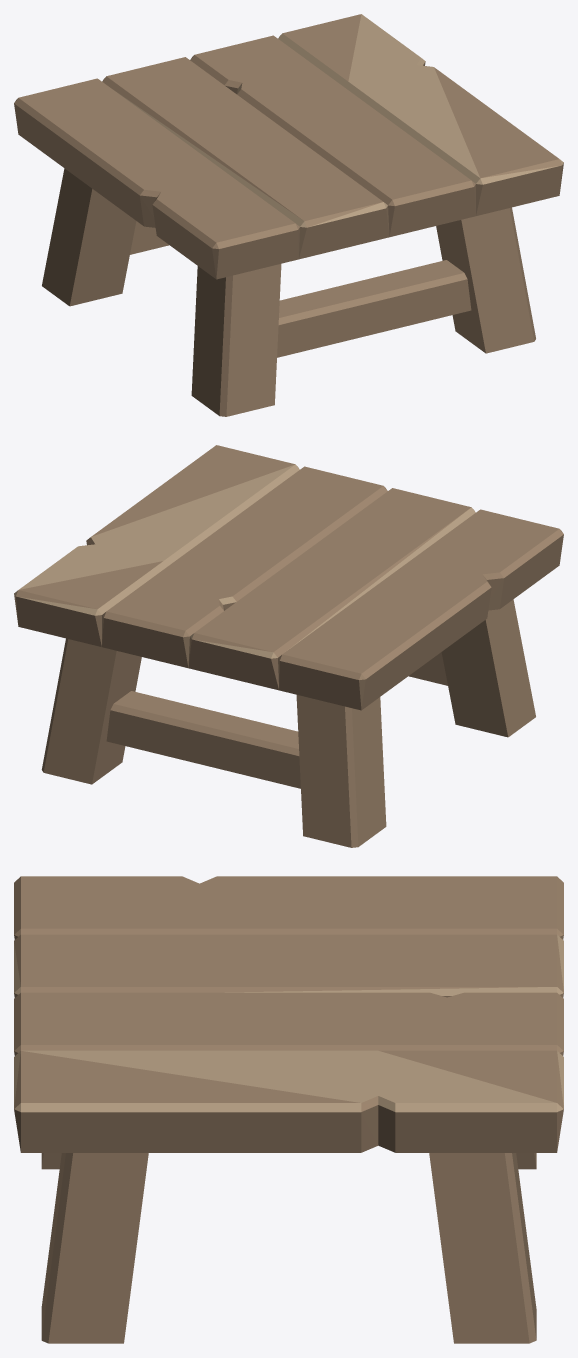
3 views of the same model, one above another, from view 1: azimuth 30°, elevation 25°; view 2: azimuth 150°, elevation 25°; view 3: azimuth 270°, elevation 25° (orthographic). The views are drawn at different scales.
Visible parts, largest first — view 1: model; view 2: model; view 3: model.
Part boxes in pixels (x1,y1,x2,y2): model: (14, 14, 563, 416); model: (14, 445, 563, 847); model: (14, 876, 563, 1343).
Size of the model in its own units: 1.4 by 0.7 by 1.4.
